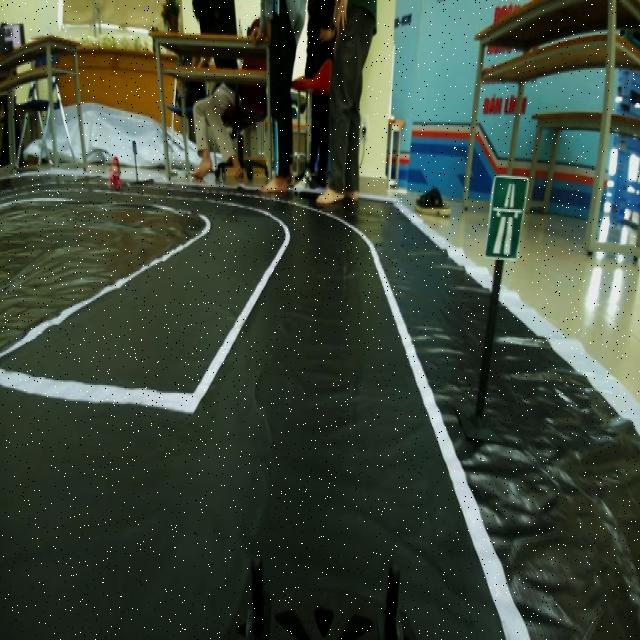highway_entry: (486, 167, 526, 259)
